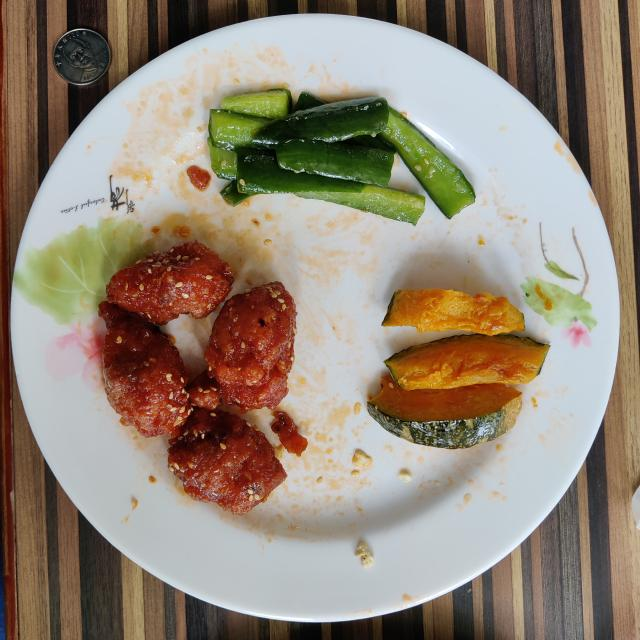coin: (52, 29, 110, 86)
cucumber: (209, 89, 475, 224)
pumpkin: (368, 289, 549, 449)
